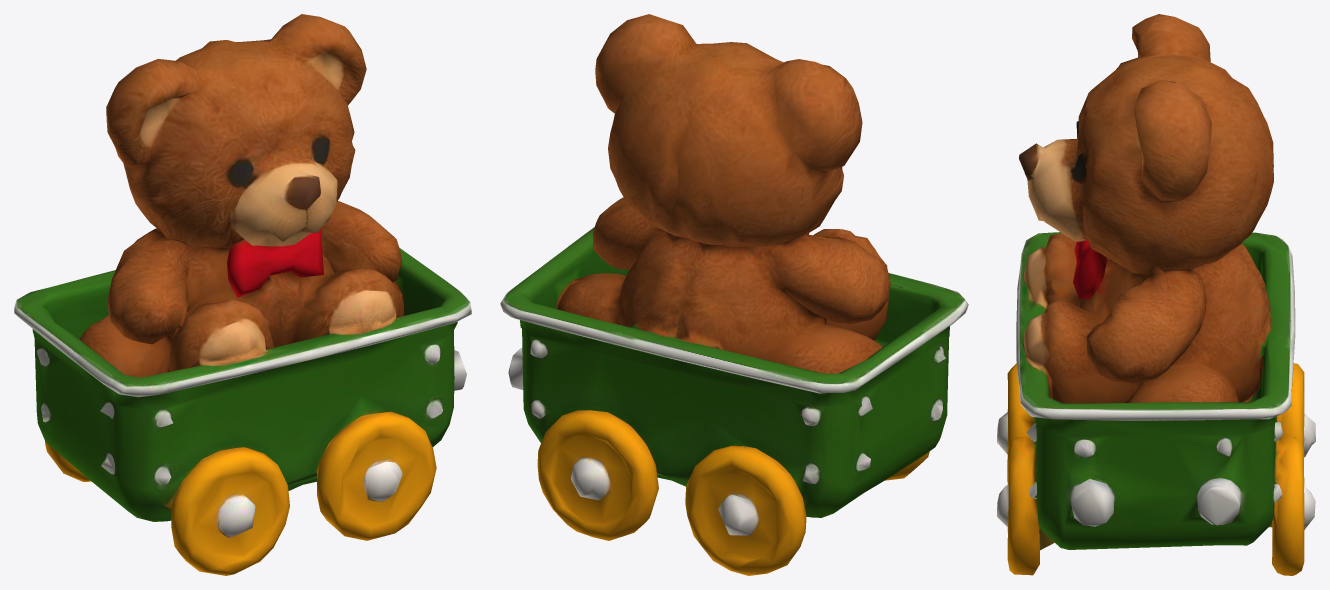
The model's file is train_wagon_green.glb.
3 views of the same model, side by side, from view 1: azimuth 30°, elevation 25°; view 2: azimuth 150°, elevation 25°; view 3: azimuth 270°, elevation 25° (orthographic). The views are drawn at different scales.
Parts seen in each view (by area): view 1: train_wagon_green; view 2: train_wagon_green; view 3: train_wagon_green.
Boxes of the visible parts, bbox=[...] form: train_wagon_green: bbox=[14, 14, 471, 575]; train_wagon_green: bbox=[500, 14, 968, 575]; train_wagon_green: bbox=[997, 14, 1315, 575].
Size of the model in its own units: 0.7652 by 0.9405 by 0.5578.
1 material, 1 textured.
